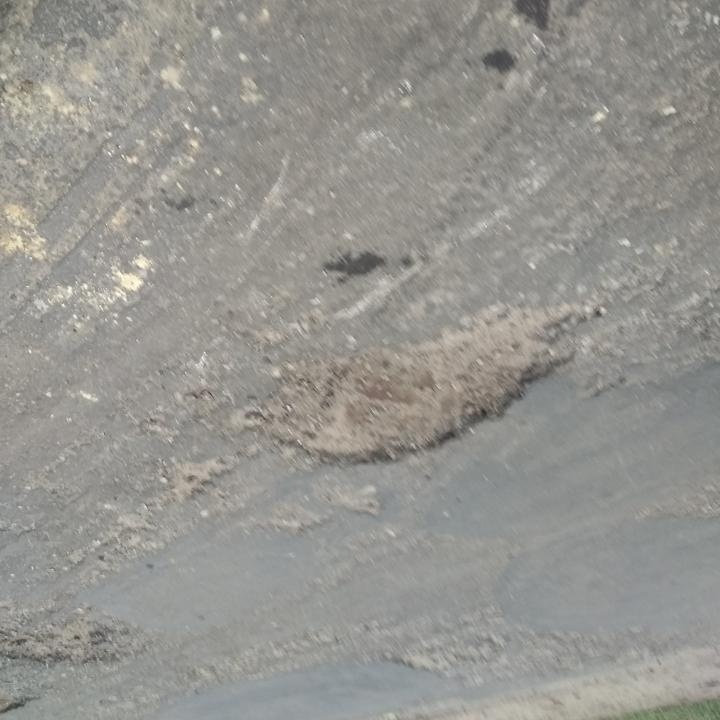pothole: (244, 298, 595, 473), (0, 613, 140, 670), (387, 637, 509, 677)
